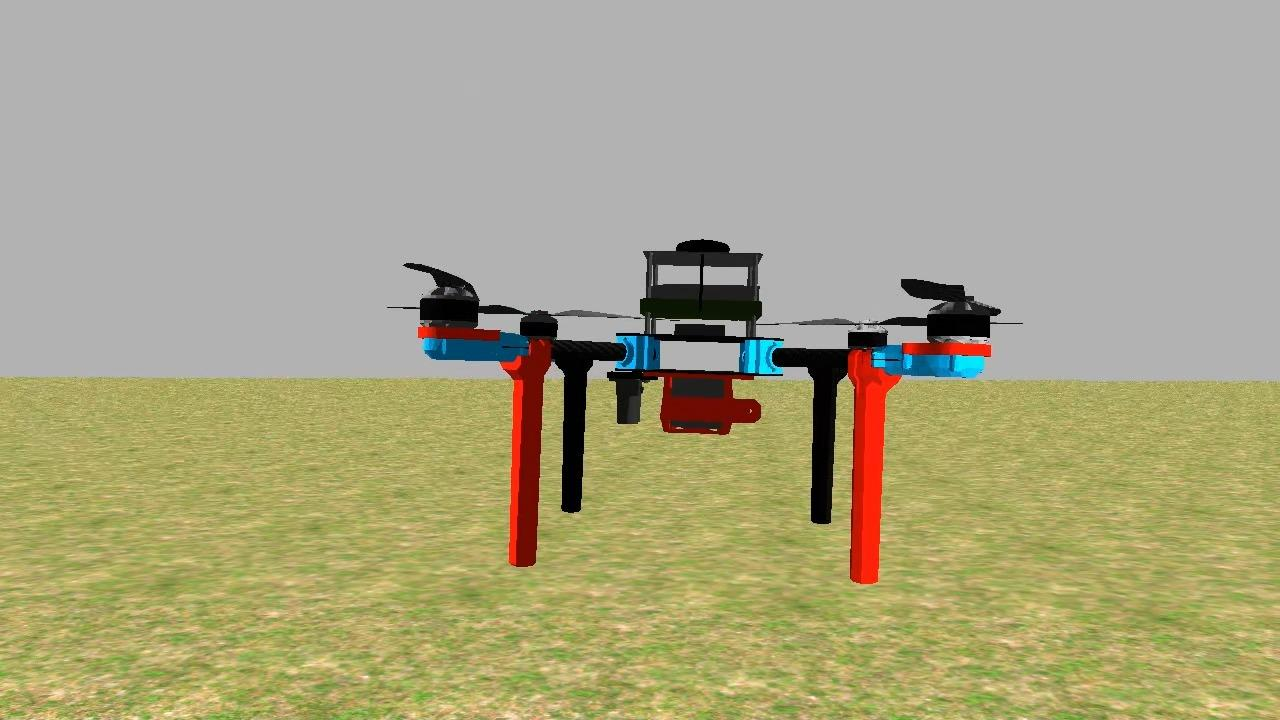UAV: (416, 221, 1011, 591)
